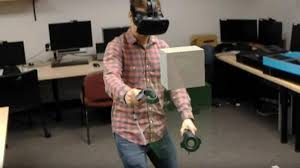oculus: (128, 6, 172, 38)
